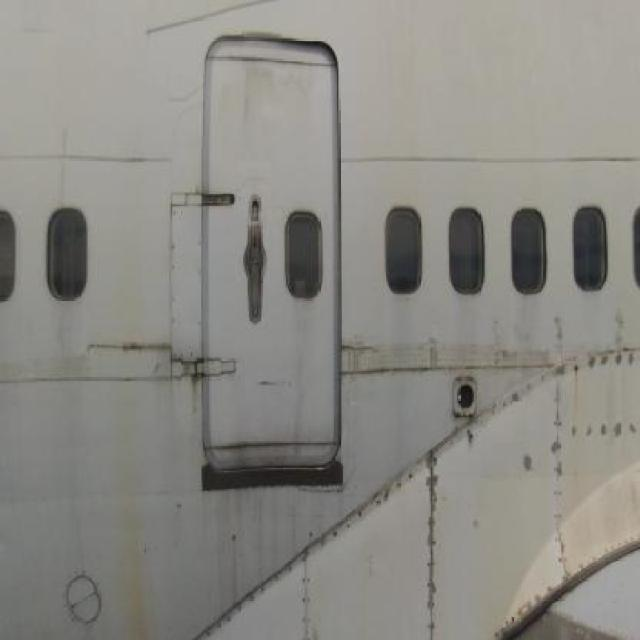Missing-Rivet: (447, 356, 551, 469), (547, 333, 588, 601), (188, 543, 289, 640), (164, 183, 211, 366), (328, 466, 429, 542), (418, 424, 450, 640), (589, 324, 640, 439), (292, 538, 336, 640), (488, 569, 546, 640)
Rust: (106, 438, 166, 640)
Scartch: (76, 322, 227, 416), (141, 1, 282, 47)
